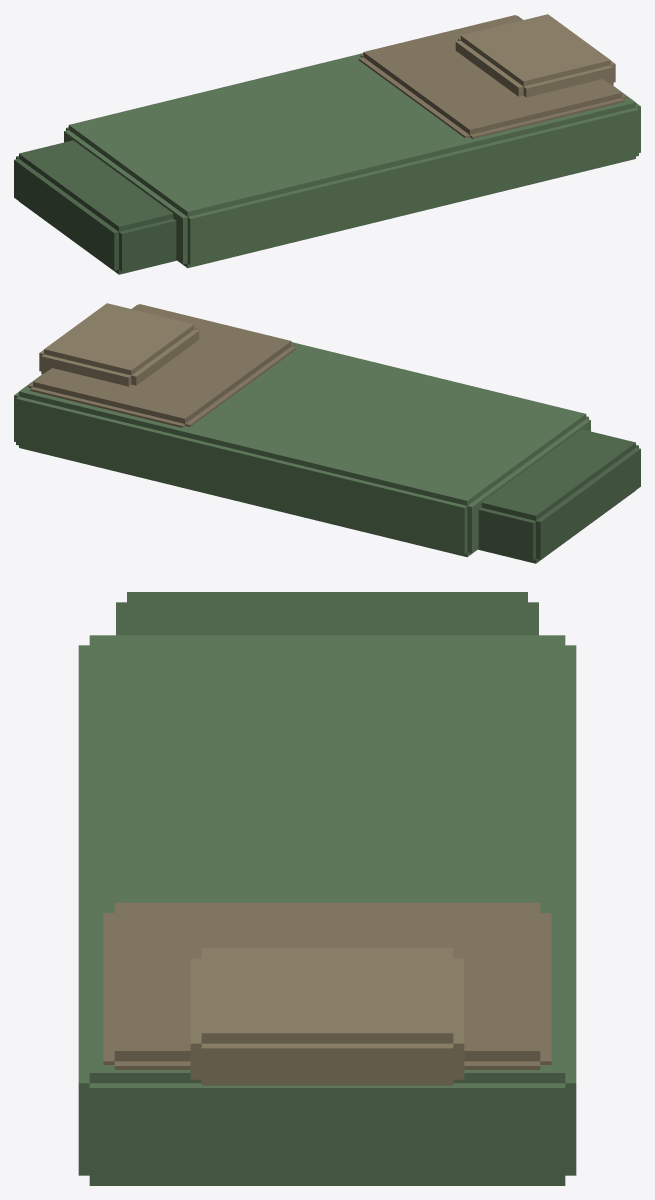
3 renders of one model, top to bottom at view 1: azimuth 30°, elevation 25°; view 2: azimuth 150°, elevation 25°; view 3: azimuth 270°, elevation 25°, orthographic. The views are drawn at different scales.
Visible parts, largest first — view 1: sleeping_bag; view 2: sleeping_bag; view 3: sleeping_bag.
Boxes of the visible parts, x1,y1,x2,y2 form: sleeping_bag: (14, 14, 640, 274); sleeping_bag: (14, 303, 640, 563); sleeping_bag: (78, 592, 576, 1185).
Bounding box in the file's own units: 1.93 × 0.275 × 0.8.
